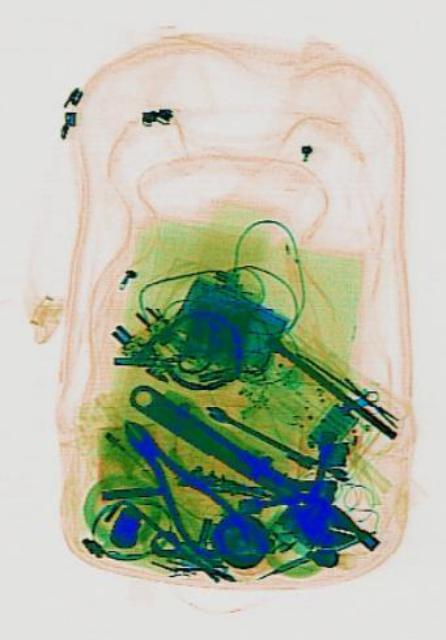Pliers: (104, 391, 264, 594)
Wrench: (119, 368, 361, 564)
